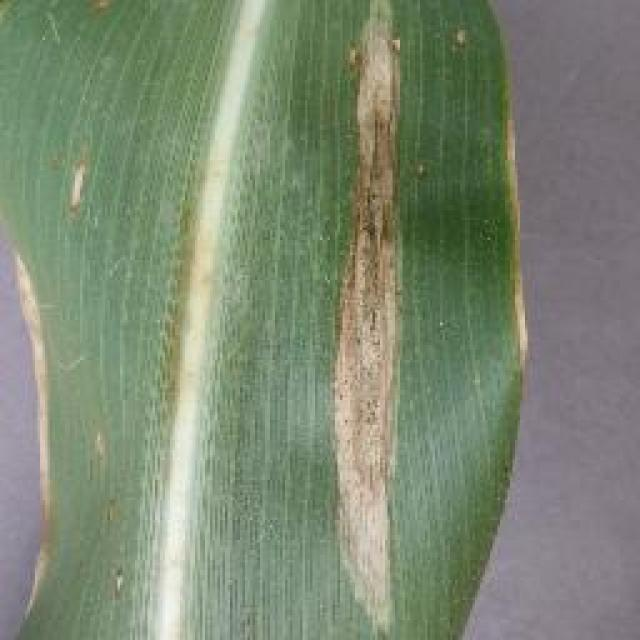Corn___Northern_Leaf_Blight: (3, 0, 555, 638)
